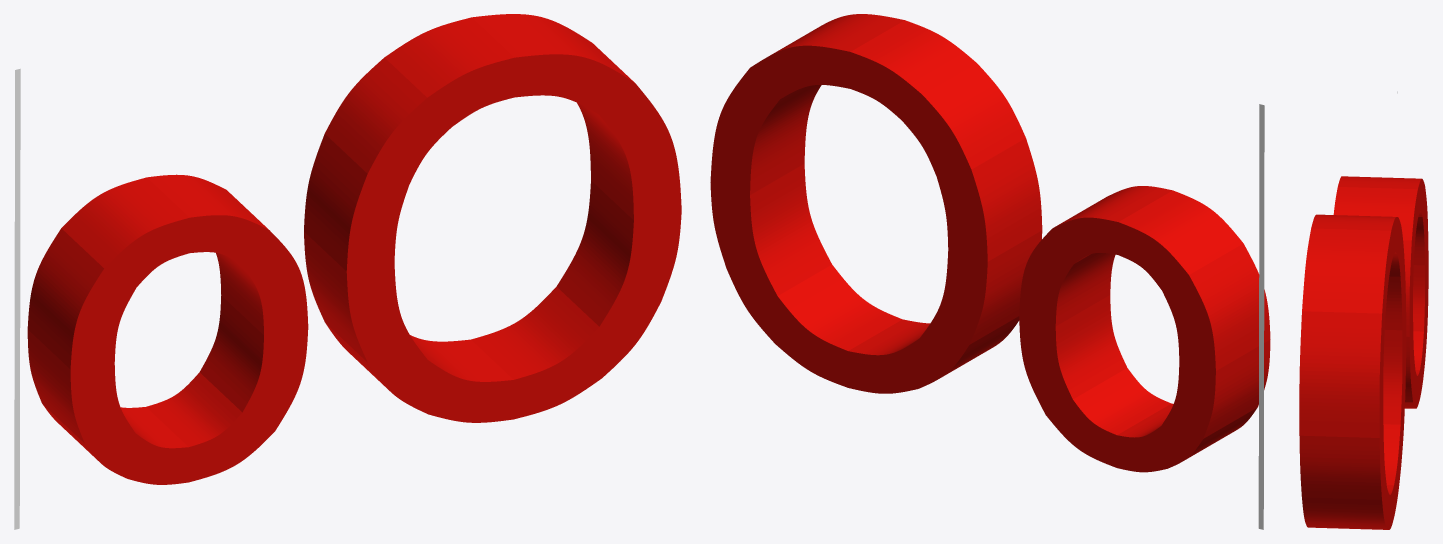
3 views of the same model, side by side, from view 1: azimuth 30°, elevation 25°; view 2: azimuth 150°, elevation 25°; view 3: azimuth 270°, elevation 25° (orthographic). The views are drawn at different scales.
Visible parts, largest first — view 1: Mesh_0.019, Плоскость; view 2: Mesh_0.019, Плоскость; view 3: Mesh_0.019.
Boxes of the visible parts, left/top/right/bottom form: Mesh_0.019: left=27, top=14, right=681, bottom=484; Плоскость: left=14, top=68, right=20, bottom=529; Mesh_0.019: left=710, top=14, right=1270, bottom=472; Плоскость: left=1258, top=104, right=1264, bottom=529; Mesh_0.019: left=1299, top=176, right=1428, bottom=529.
Bounding box in the file's own units: 13.06 × 9.38 × 3.04.
